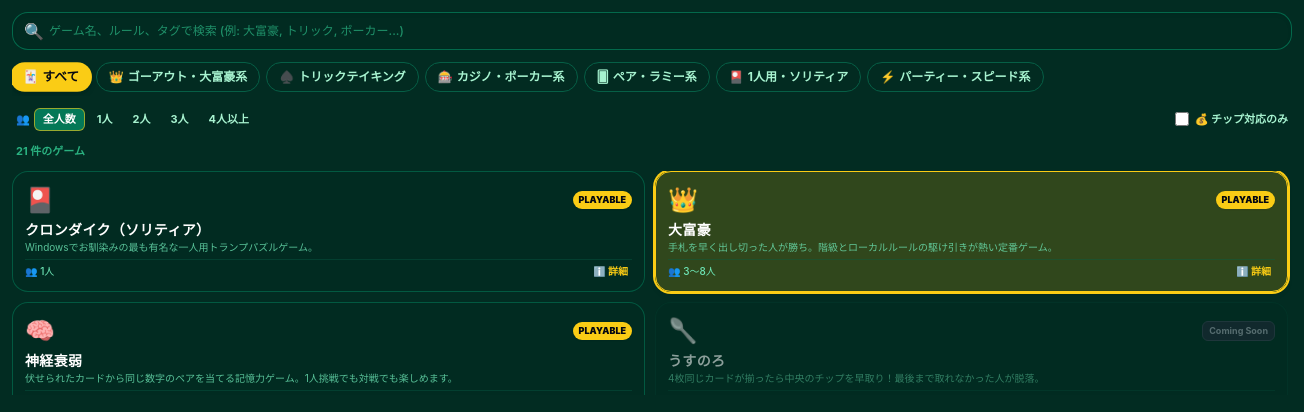
Test: GameSelector Component › カテゴリタブをクリックすると、該当カテゴリのゲームに絞り込まれること
The image size is (1304, 412).
# トリックテイキングを選択
Step 1. Click the text "トリックテイキング" → coordinates (352, 77), box [298, 69, 406, 85]
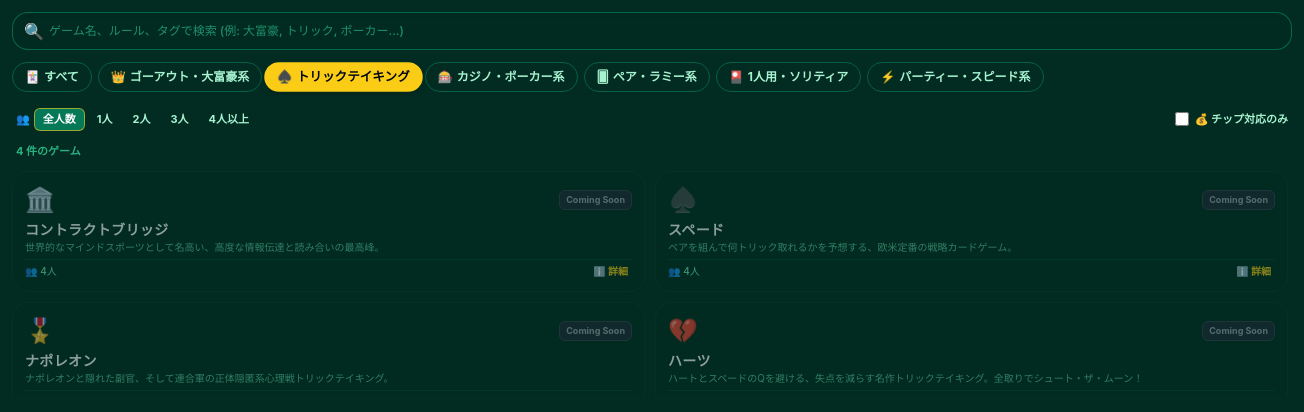
Expected: the text "ナポレオン" is shown, [25, 352, 97, 369]
Expected: the text "ハーツ" is shown, [668, 352, 711, 369]
